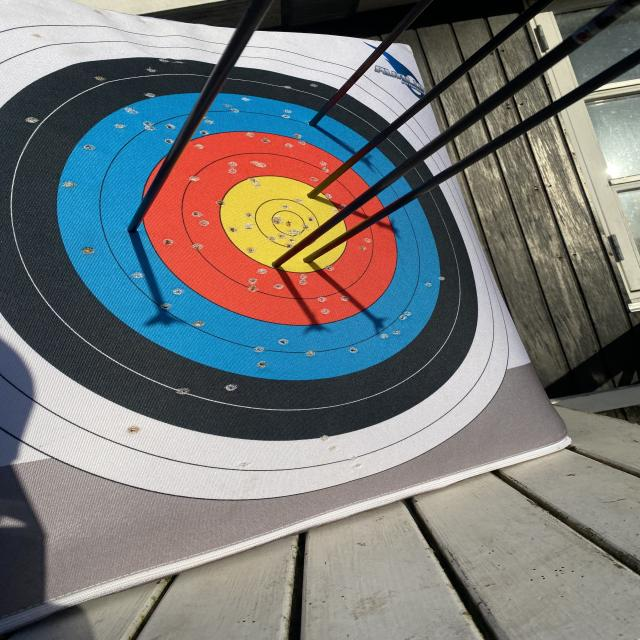Arrow_Blue: (296, 111, 341, 133), (124, 210, 153, 241)
Arrow_Yellow: (262, 255, 296, 278), (299, 246, 327, 273), (300, 180, 328, 206)
